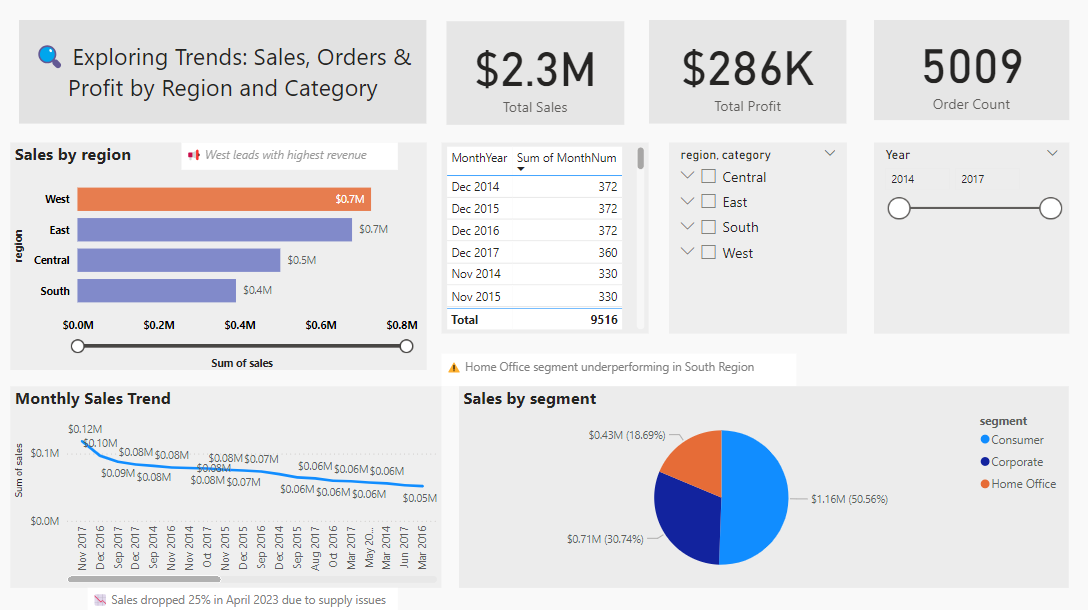

Layout of this report page (visuals, bound fields, positions):
{"tool":"powerbi","page":{"name":"Page 1","canvas":[1280,720],"ordinal":0},"visuals":[{"type":"barChart","title":"Sales by region","fields":{"Category":["Sample___Superstore.region"],"Y":["Sum(Sample___Superstore.sales)"]},"box":[30,174.3,475.7,260],"z":0},{"type":"textbox","box":[118.6,682.9,354.3,37.1],"z":1000},{"type":"lineChart","title":"Monthly Sales Trend","fields":{"Category":["DateTable.MonthYear"],"Y":["Sum(Sample___Superstore.sales)"]},"box":[30,452.9,492.9,230],"z":2000},{"type":"tableEx","fields":{"Values":["DateTable.MonthYear","Sum(DateTable.MonthNum)"]},"box":[522.9,174.3,237.1,218.6],"z":3000},{"type":"textbox","box":[225.7,174.3,247.1,31.4],"z":4000},{"type":"pieChart","title":"Sales by segment","fields":{"Y":["Sum(Sample___Superstore.sales)"],"Category":["Sample___Superstore.segment"]},"box":[542.9,452.9,697.1,230],"z":5000},{"type":"card","fields":{"Values":["Sample___Superstore.Total Sales"]},"box":[528.6,35.7,202.9,118.6],"z":6000},{"type":"card","fields":{"Values":["Sample___Superstore.Total Profit"]},"box":[760,34.3,225.7,118.6],"z":7000},{"type":"card","fields":{"Values":["Sample___Superstore.Order Count"]},"box":[1017.1,34.3,222.9,114.3],"z":8000},{"type":"slicer","fields":{"Values":["Sample___Superstore.region","Sample___Superstore.category"]},"box":[782.9,174.3,202.9,218.6],"z":9000},{"type":"slicer","fields":{"Values":["Sample___Superstore.Year"]},"box":[1017.1,174.3,222.9,218.6],"z":10000},{"type":"textbox","box":[522.9,415.7,405.7,37.1],"z":11000},{"type":"textbox","box":[40,34.3,465.7,118.6],"z":12000}]}

Visuals, with their boxes in screenshot pixels (x1, y1, x2, y2), scaled from the page's 1280x720 canvas onto the 1088x610 screenshot:
"Sales by region" barChart: (26, 148, 430, 368)
textbox: (101, 579, 402, 609)
"Monthly Sales Trend" lineChart: (26, 384, 444, 579)
tableEx - DateTable.MonthYear x Sum(DateTable.MonthNum): (444, 148, 646, 333)
textbox: (192, 148, 402, 174)
"Sales by segment" pieChart: (461, 384, 1054, 579)
card - Sample___Superstore.Total Sales: (449, 30, 622, 131)
card - Sample___Superstore.Total Profit: (646, 29, 838, 130)
card - Sample___Superstore.Order Count: (865, 29, 1054, 126)
slicer - Sample___Superstore.region x Sample___Superstore.category: (665, 148, 838, 333)
slicer - Sample___Superstore.Year: (865, 148, 1054, 333)
textbox: (444, 352, 789, 384)
textbox: (34, 29, 430, 130)
